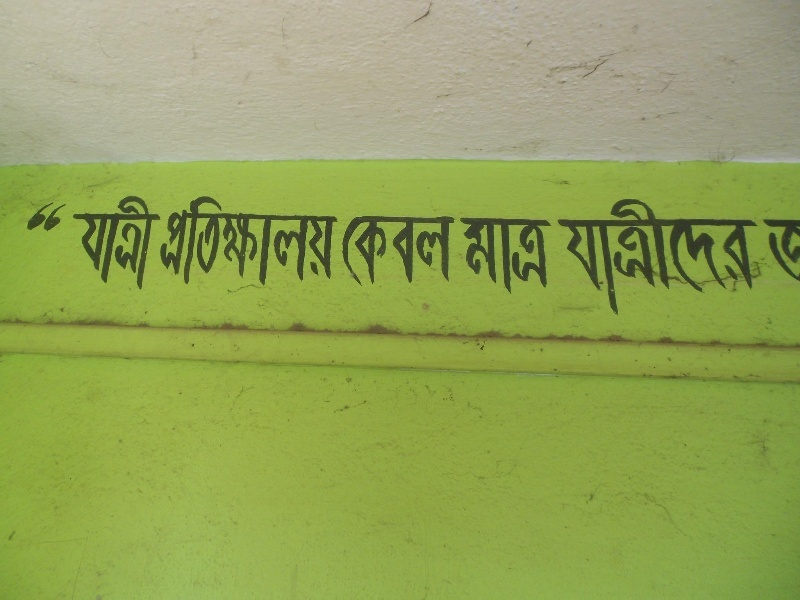text: (561, 194, 576, 318), (577, 194, 592, 318), (593, 194, 608, 318), (609, 194, 624, 318), (625, 194, 640, 318), (641, 194, 656, 318), (657, 194, 672, 318), (673, 194, 688, 318), (689, 194, 704, 318), (705, 194, 720, 318), (721, 194, 736, 318), (737, 194, 752, 318), (81, 193, 96, 293), (97, 193, 112, 293), (113, 193, 128, 293), (129, 193, 144, 293), (145, 193, 160, 293), (177, 195, 192, 289), (193, 195, 208, 289), (209, 195, 224, 289), (225, 195, 240, 289), (241, 195, 256, 289), (257, 195, 272, 289), (273, 195, 288, 289), (289, 195, 304, 289), (305, 195, 320, 289), (321, 195, 336, 289), (550, 194, 560, 318), (465, 218, 480, 298), (481, 218, 496, 298), (497, 218, 512, 298), (513, 218, 528, 298), (529, 218, 544, 298), (353, 214, 368, 292), (369, 214, 384, 292), (385, 214, 400, 292), (401, 214, 416, 292), (417, 214, 432, 292), (433, 214, 448, 292), (545, 218, 557, 298), (769, 222, 784, 281), (785, 222, 800, 281), (753, 194, 760, 318), (341, 214, 352, 292), (74, 193, 80, 293), (161, 193, 167, 293), (170, 195, 176, 289), (449, 214, 455, 292), (33, 204, 48, 232), (49, 204, 64, 232), (460, 218, 464, 298), (337, 195, 340, 289), (24, 204, 32, 232), (65, 204, 72, 232), (765, 222, 768, 281)
